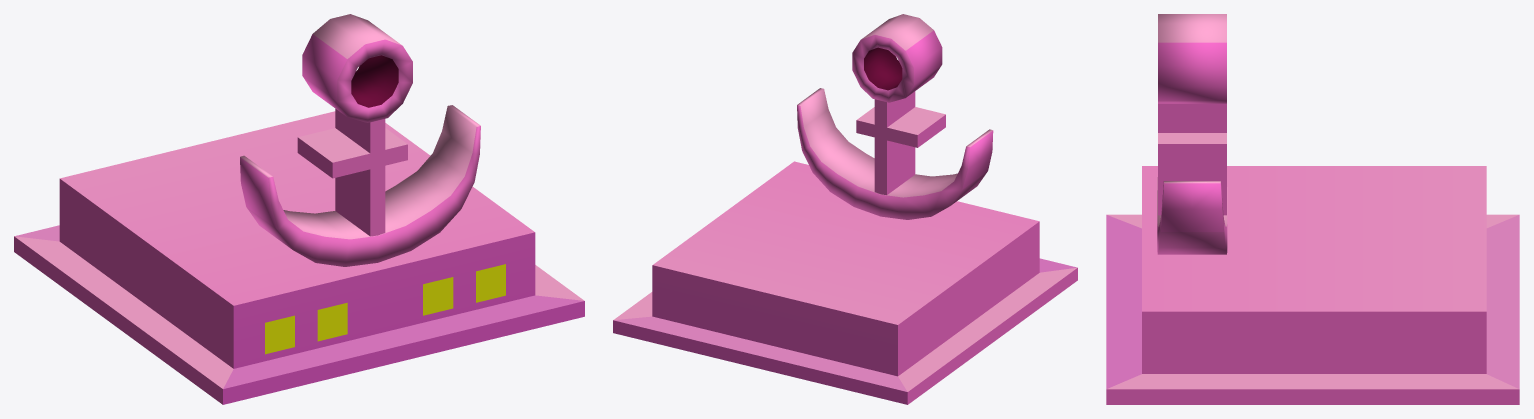
The model's file is Port.PinkCosmos.glb.
The picture shows the model from 3 angles, left to right: view 1: azimuth 30°, elevation 25°; view 2: azimuth 150°, elevation 25°; view 3: azimuth 270°, elevation 25°; orthographic projection. The views are drawn at different scales.
Parts seen in each view (by area): view 1: Port.PinkCosmos; view 2: Port.PinkCosmos; view 3: Port.PinkCosmos.
Boxes of the visible parts, x1,y1,x2,y2 form: Port.PinkCosmos: (14,14,584,404); Port.PinkCosmos: (613,14,1077,404); Port.PinkCosmos: (1106,14,1519,404).
Size of the model in its own units: 2.4 by 1.9 by 2.4.
Materials: 2 (1 with a texture image).
